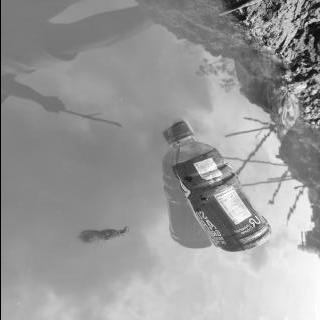bottle: (162, 118, 276, 255)
